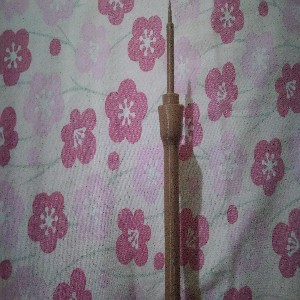solder: (157, 1, 186, 300)
